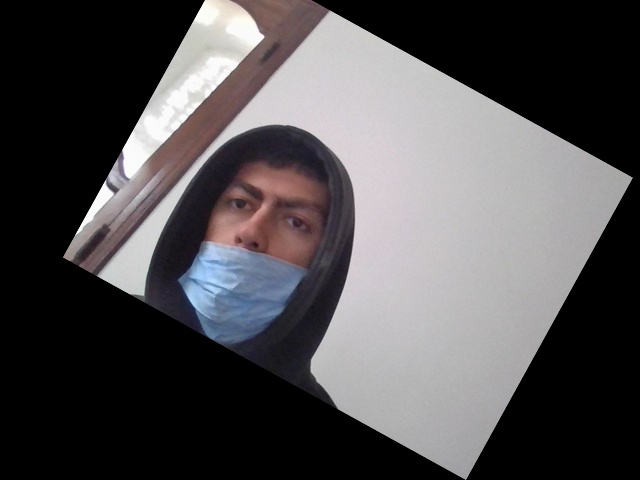mask_weared_incorrect: (183, 149, 328, 357)
